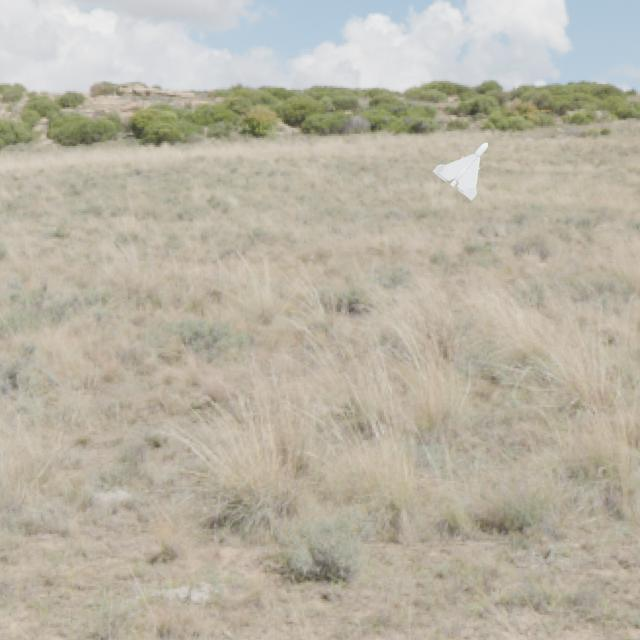Airaplan: (433, 143, 488, 201)
